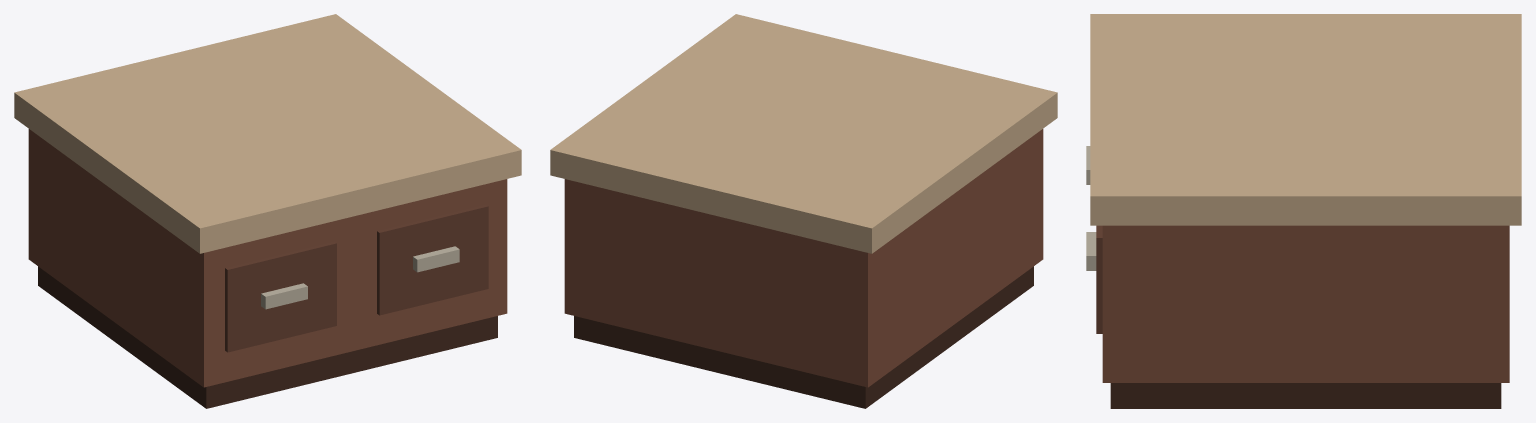
The model's file is k_meadow_counter.glb.
3 views of the same model, side by side, from view 1: azimuth 30°, elevation 25°; view 2: azimuth 150°, elevation 25°; view 3: azimuth 270°, elevation 25° (orthographic). The views are drawn at different scales.
Parts seen in each view (by area): view 1: piece; view 2: piece; view 3: piece.
Part boxes in pixels (x1,y1,x2,y2): piece: [14, 14, 521, 408]; piece: [550, 14, 1057, 408]; piece: [1086, 14, 1521, 408].
Size of the model in its own units: 1.06 by 0.6 by 1.07.
